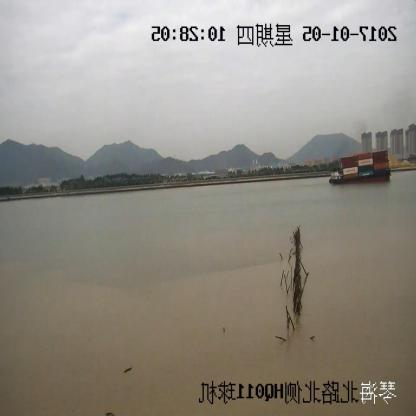Container Ship: (329, 148, 391, 184)
